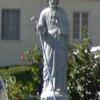Statue: (21, 4, 80, 98)
